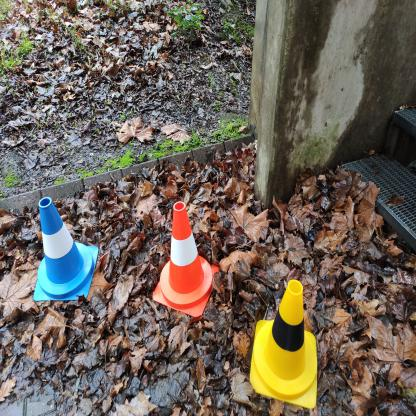Cones_small_blue: (26, 197, 104, 306)
Cones_small_orange: (145, 198, 226, 325)
Cones_small_yellow: (246, 277, 322, 415)
